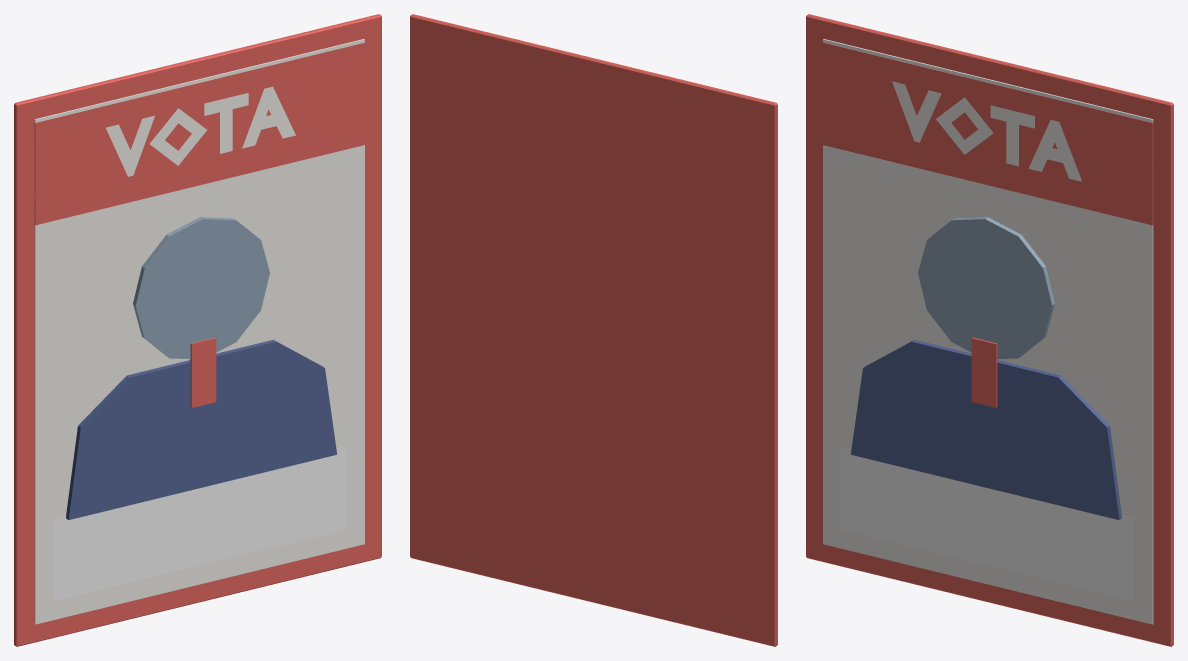
The model's file is prop_poster_rival_01.glb.
The picture shows the model from 3 angles, left to right: view 1: azimuth 30°, elevation 25°; view 2: azimuth 150°, elevation 25°; view 3: azimuth 330°, elevation 25°; orthographic projection.
Parts seen in each view (by area): view 1: prop_poster_rival_01_body; view 2: prop_poster_rival_01_body; view 3: prop_poster_rival_01_body.
Part boxes in pixels (x1,y1,x2,y2): prop_poster_rival_01_body: (14, 14, 381, 646); prop_poster_rival_01_body: (410, 14, 777, 646); prop_poster_rival_01_body: (806, 14, 1173, 646).
Bounding box in the file's own units: 0.6 × 0.85 × 0.021.
